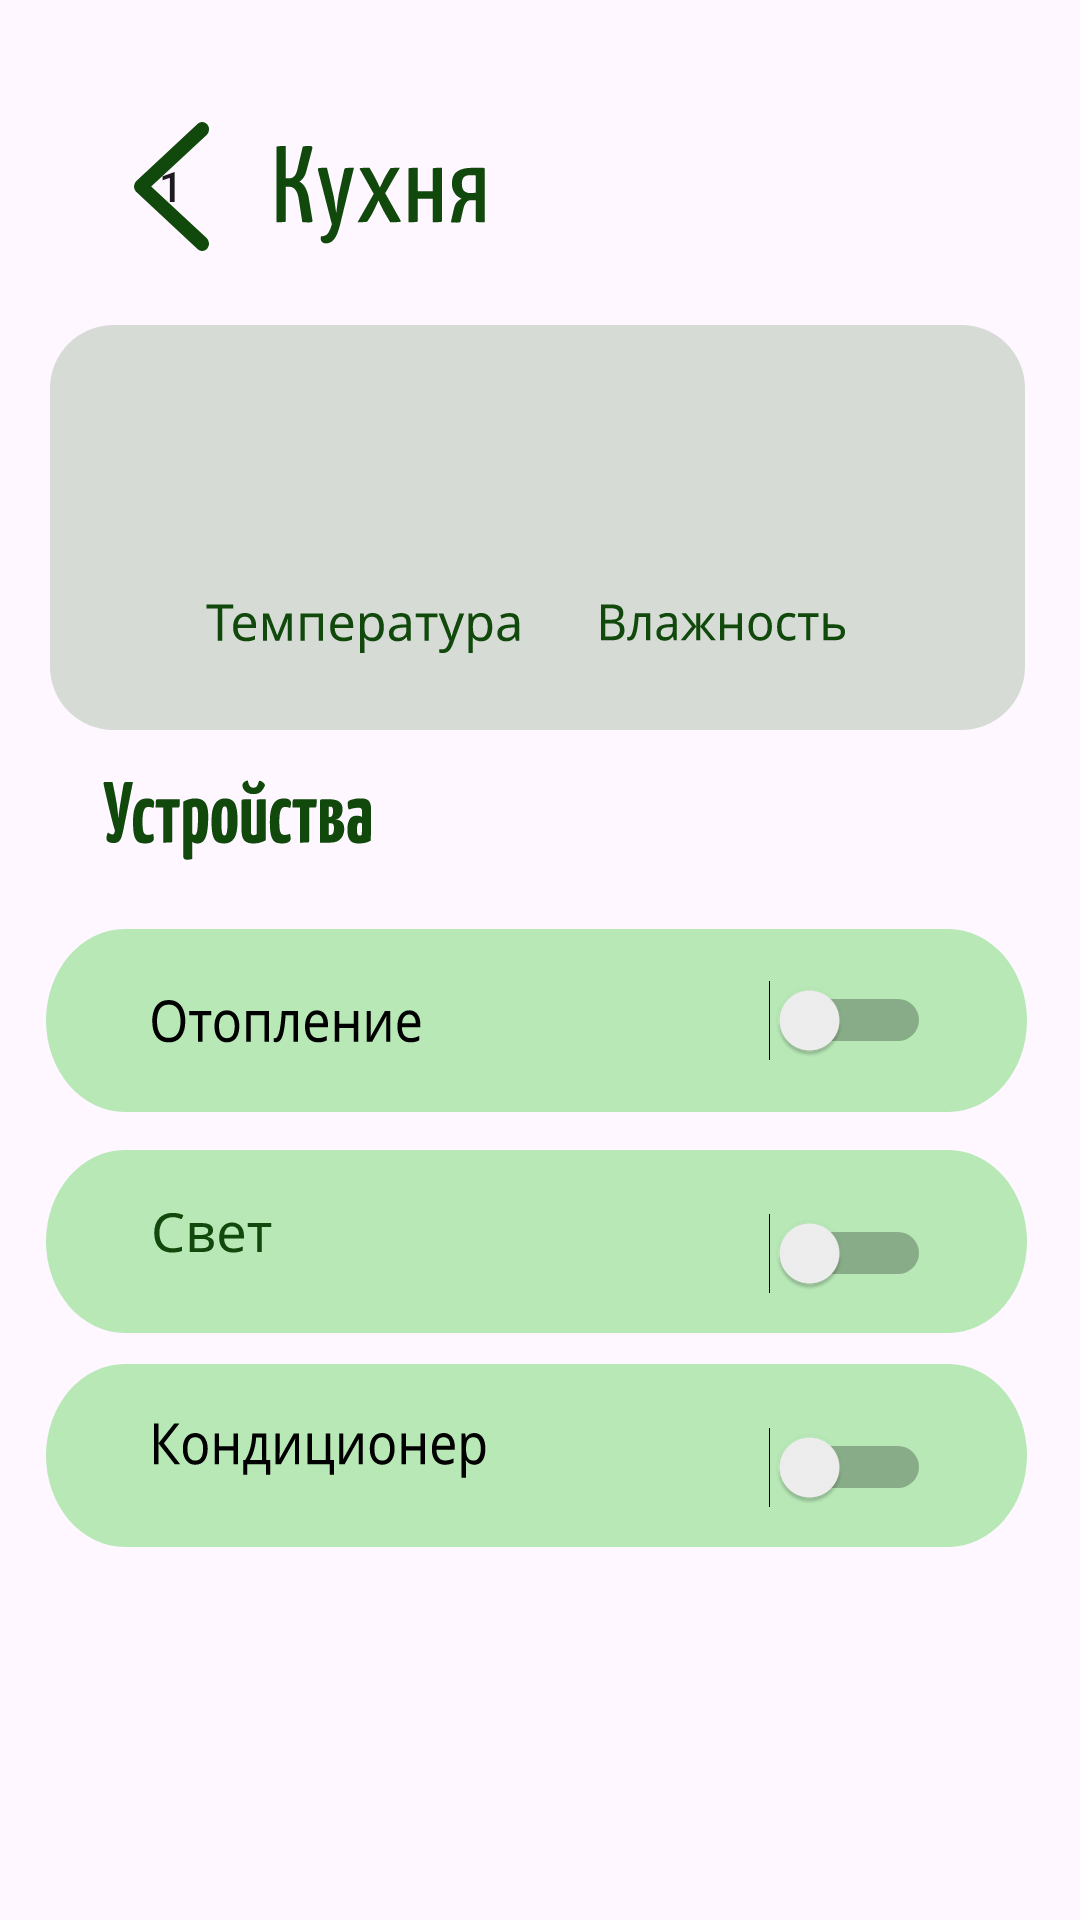

Named icons in this screenshot (1080×1920) and their bounding boxes, bbox(x1, y1, x2, y2):
back: bbox(134, 122, 209, 251)
